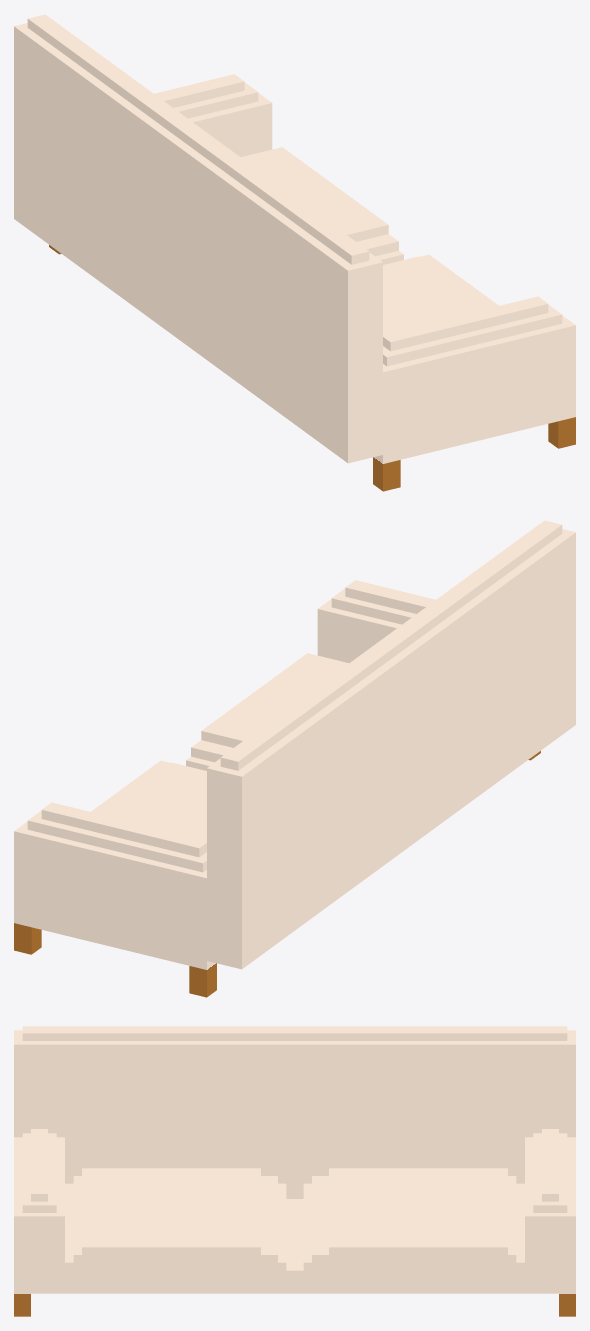
3 views of the same model, one above another, from view 1: azimuth 30°, elevation 25°; view 2: azimuth 150°, elevation 25°; view 3: azimuth 270°, elevation 25° (orthographic). The views are drawn at different scales.
Visible parts, largest first — view 1: Object; view 2: Object; view 3: Object.
Part boxes in pixels (x1=…): Object: x1=14, y1=14, x2=575, y2=491; Object: x1=14, y1=520, x2=575, y2=997; Object: x1=14, y1=1026, x2=575, y2=1316.
Bounding box in the file's own units: 26 × 26 × 66.
1 material, 1 textured.
